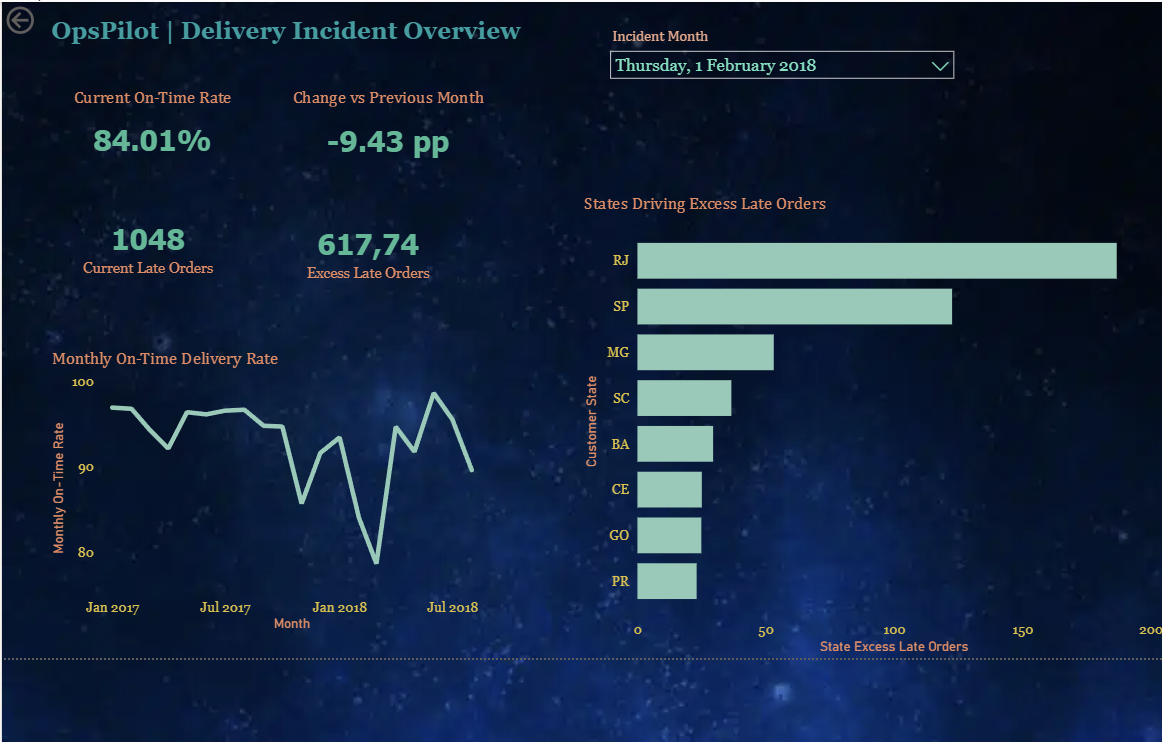

The dashboard page shown, as its layout file describes it:
{"tool":"powerbi","page":{"name":"Page 1","canvas":[1280,720],"ordinal":0},"visuals":[{"type":"actionButton","box":[0,0,100,40],"z":0},{"type":"slicer","fields":{"Values":["delivery_comparisons.current_month"]},"box":[657.3,23.3,397.9,140],"z":1000},{"type":"card","title":"Current On-Time Rate","fields":{"Values":["_Measures.Current On-Time Rate Display"]},"box":[49.4,93.3,231.9,94.7],"z":2000},{"type":"card","title":"Change vs Previous Month","fields":{"Values":["_Measures.On-Time Change PP Display"]},"box":[299.1,93.3,249.7,97.4],"z":3000},{"type":"card","fields":{"Values":["_Measures.Current Late Orders"]},"box":[43.9,204.5,233.3,129],"z":4000},{"type":"card","fields":{"Values":["_Measures.Excess Late Orders"]},"box":[277.2,204.5,249.7,140],"z":5000},{"type":"lineChart","title":"Monthly On-Time Delivery Rate","fields":{"Y":["_Measures.Monthly On-Time Rate"],"Category":["monthly_kpis.purchase_month"]},"box":[49.4,380.1,499.5,315.6],"z":6000},{"type":"clusteredBarChart","title":"States Driving Excess Late Orders","fields":{"Category":["delivery_issue_states.customer_state"],"Y":["_Measures.State Excess Late Orders"]},"box":[634,209.9,646.3,510.5],"z":7000},{"type":"textbox","box":[49.4,11,537.9,82.3],"z":8000}]}

Visuals, with their boxes on the page's 1280x720 design canvas (x1, y1, x2, y2). These are canvas units, not pixel positions in the 1162x742 screenshot, which may show the page scaled, cropped or inside an application window:
actionButton: pyautogui.locateOnScreen(0, 0, 100, 40)
slicer - delivery_comparisons.current_month: pyautogui.locateOnScreen(657, 23, 1055, 163)
"Current On-Time Rate" card: pyautogui.locateOnScreen(49, 93, 281, 188)
"Change vs Previous Month" card: pyautogui.locateOnScreen(299, 93, 549, 191)
card - _Measures.Current Late Orders: pyautogui.locateOnScreen(44, 204, 277, 334)
card - _Measures.Excess Late Orders: pyautogui.locateOnScreen(277, 204, 527, 344)
"Monthly On-Time Delivery Rate" lineChart: pyautogui.locateOnScreen(49, 380, 549, 696)
"States Driving Excess Late Orders" clusteredBarChart: pyautogui.locateOnScreen(634, 210, 1280, 720)
textbox: pyautogui.locateOnScreen(49, 11, 587, 93)
